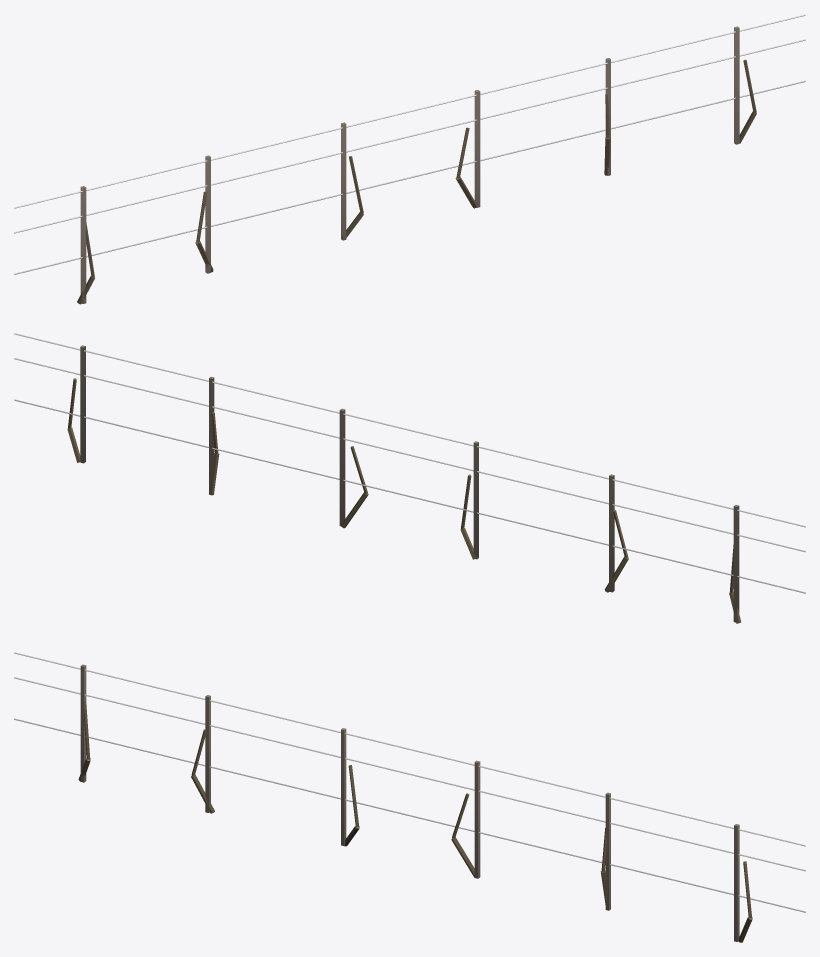
The model's file is vine_row_1.glb.
The picture shows the model from 3 angles, top to bottom: view 1: azimuth 30°, elevation 25°; view 2: azimuth 150°, elevation 25°; view 3: azimuth 330°, elevation 25°; orthographic projection.
Parts seen in each view (by area): view 1: vine_row_1; view 2: vine_row_1; view 3: vine_row_1.
Part boxes in pixels (x1=…): vine_row_1: x1=14, y1=14, x2=805, y2=304; vine_row_1: x1=14, y1=333, x2=805, y2=623; vine_row_1: x1=14, y1=652, x2=805, y2=942.
Bounding box in the file's own units: 10 × 1.42 × 0.128.
